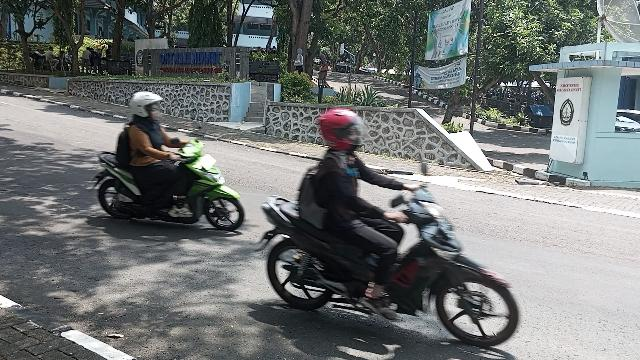helm: (319, 106, 370, 154), (129, 92, 167, 123)
motor: (252, 158, 523, 351), (89, 121, 247, 235)
